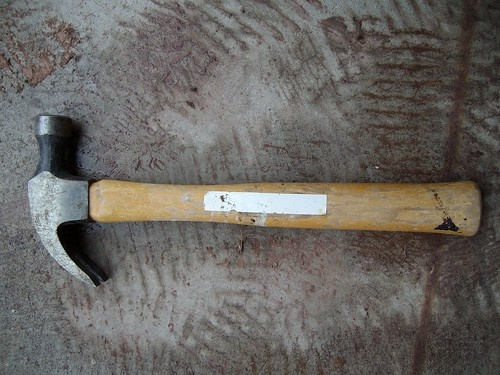hammer: (24, 114, 485, 290)
